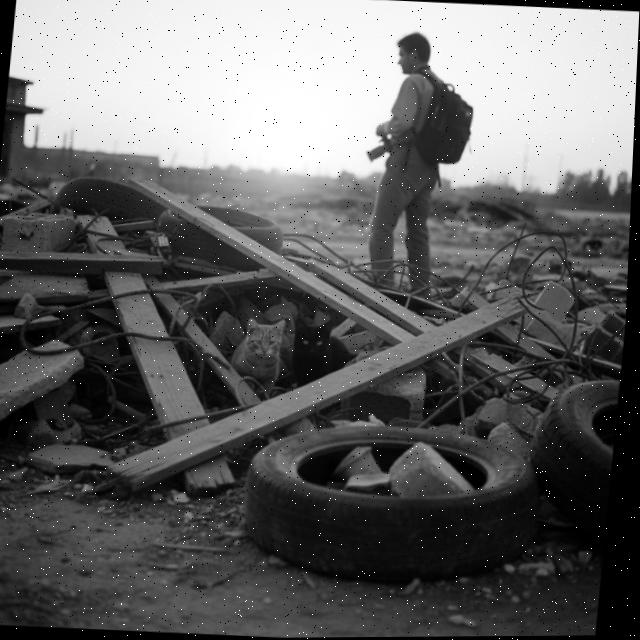cat: (232, 316, 292, 400), (282, 314, 355, 382)
civilian: (349, 25, 479, 324)
